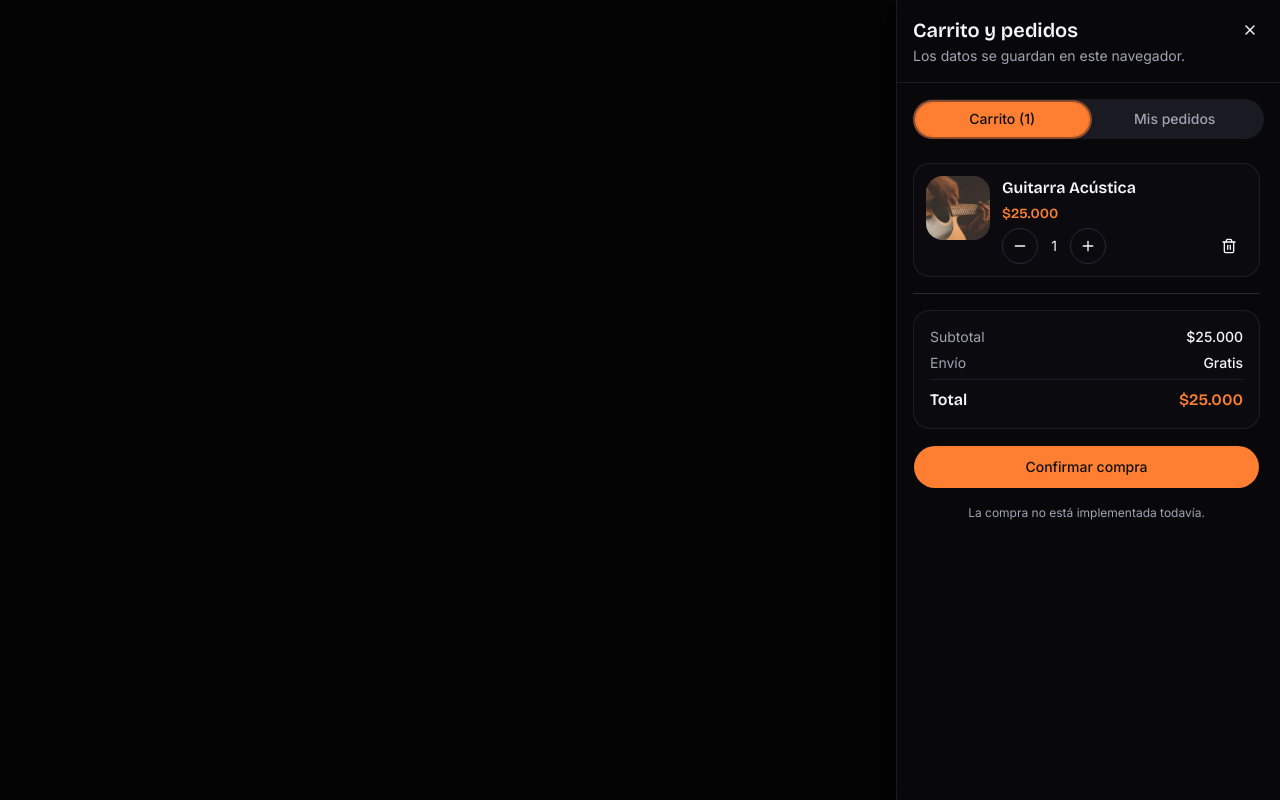
Test case: CartDrawer › incrementa, decrementa y quita líneas
The image size is (1280, 800).
expect the text "Guitarra Acústica" is shown: met, box [1002,178,1136,197]
Step 1. Click the button named "Agregar una unidad de Guitarra Acústica" → click(1088, 246), box [1070,228,1106,264]
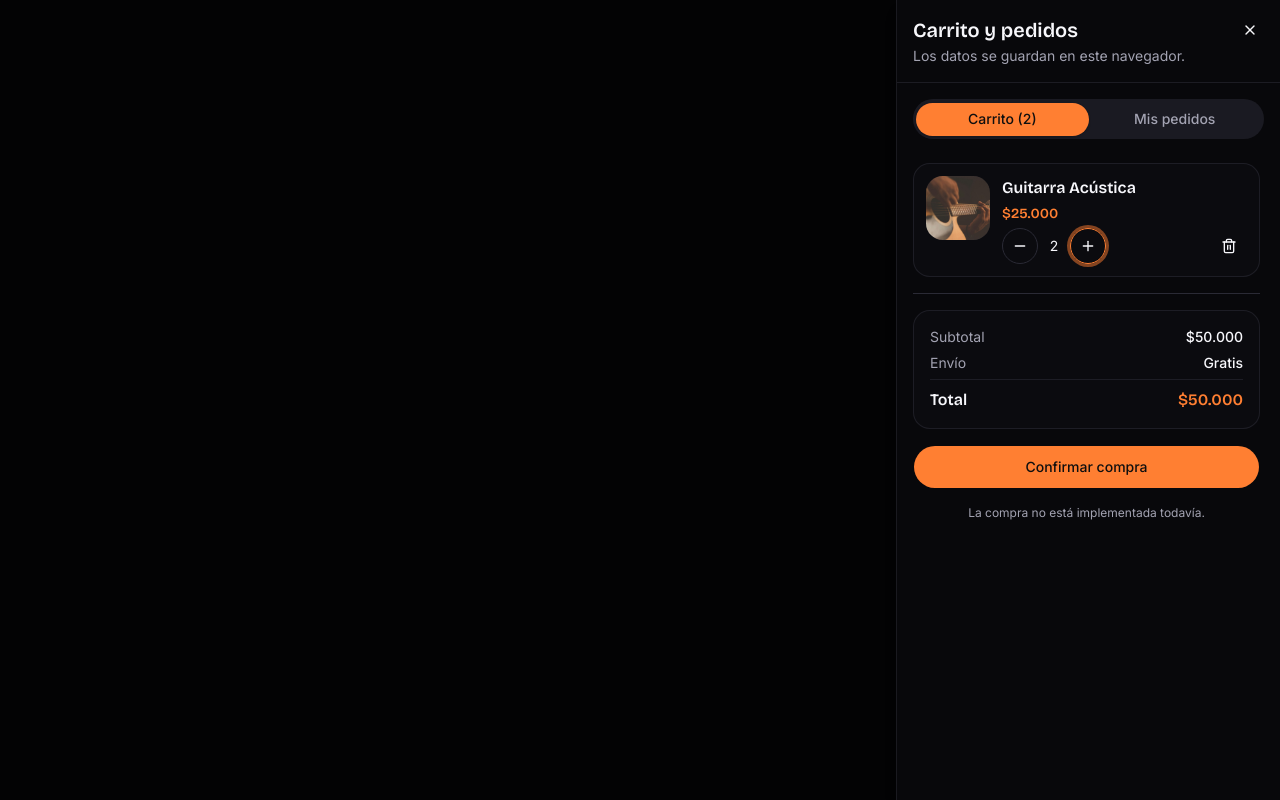
Step 2. Click the button named "Quitar una unidad de Guitarra Acústica" → click(1020, 246), box [1002,228,1038,264]
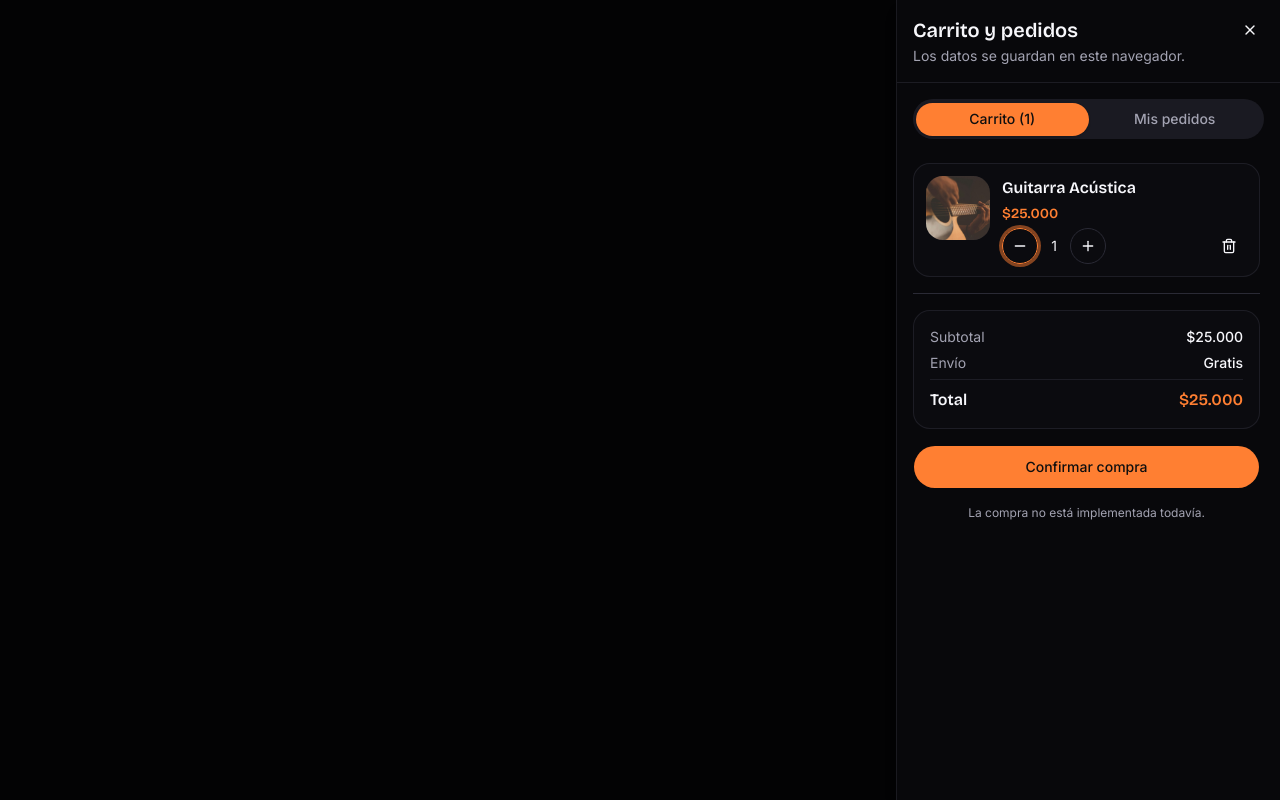
Step 3. Click the button named "Eliminar Guitarra Acústica del carrito" → click(1229, 246), box [1211,228,1247,264]
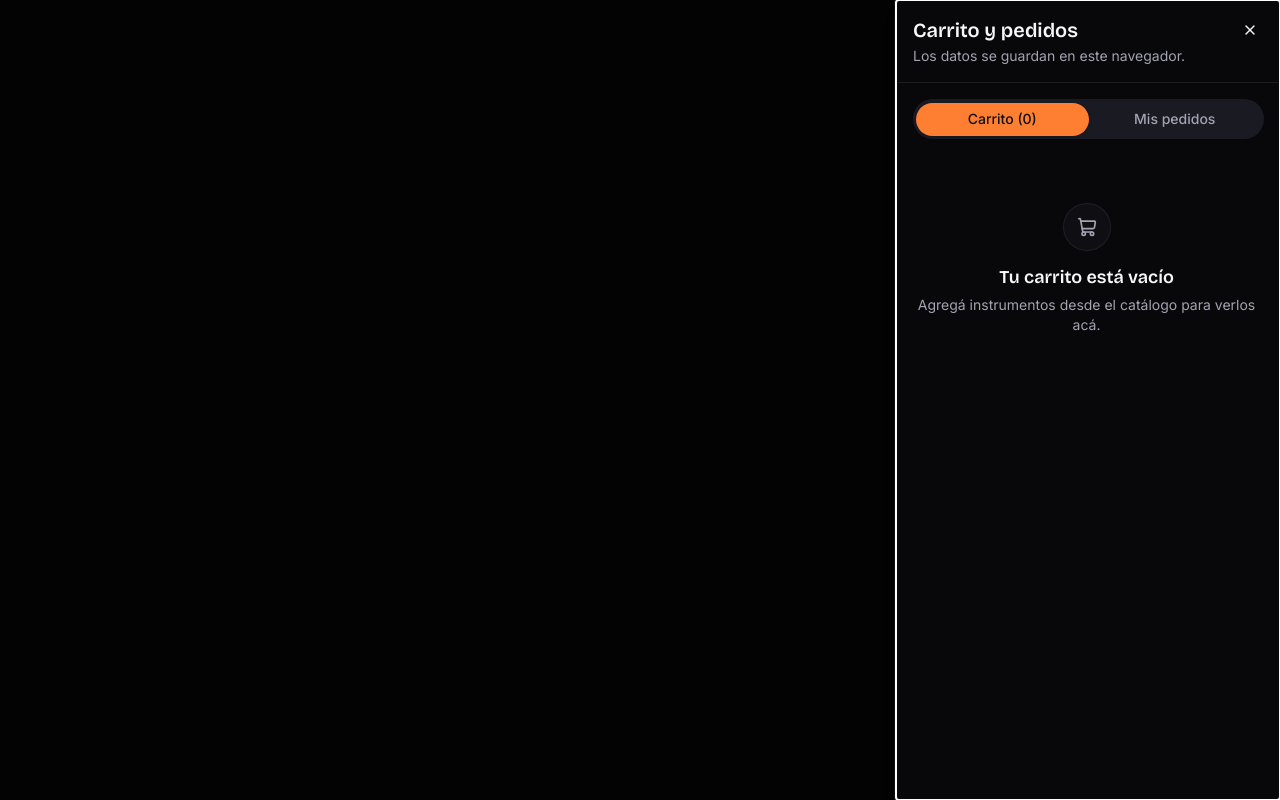
expect the text "Tu carrito está vacío" is shown: met, box [999,266,1174,288]
